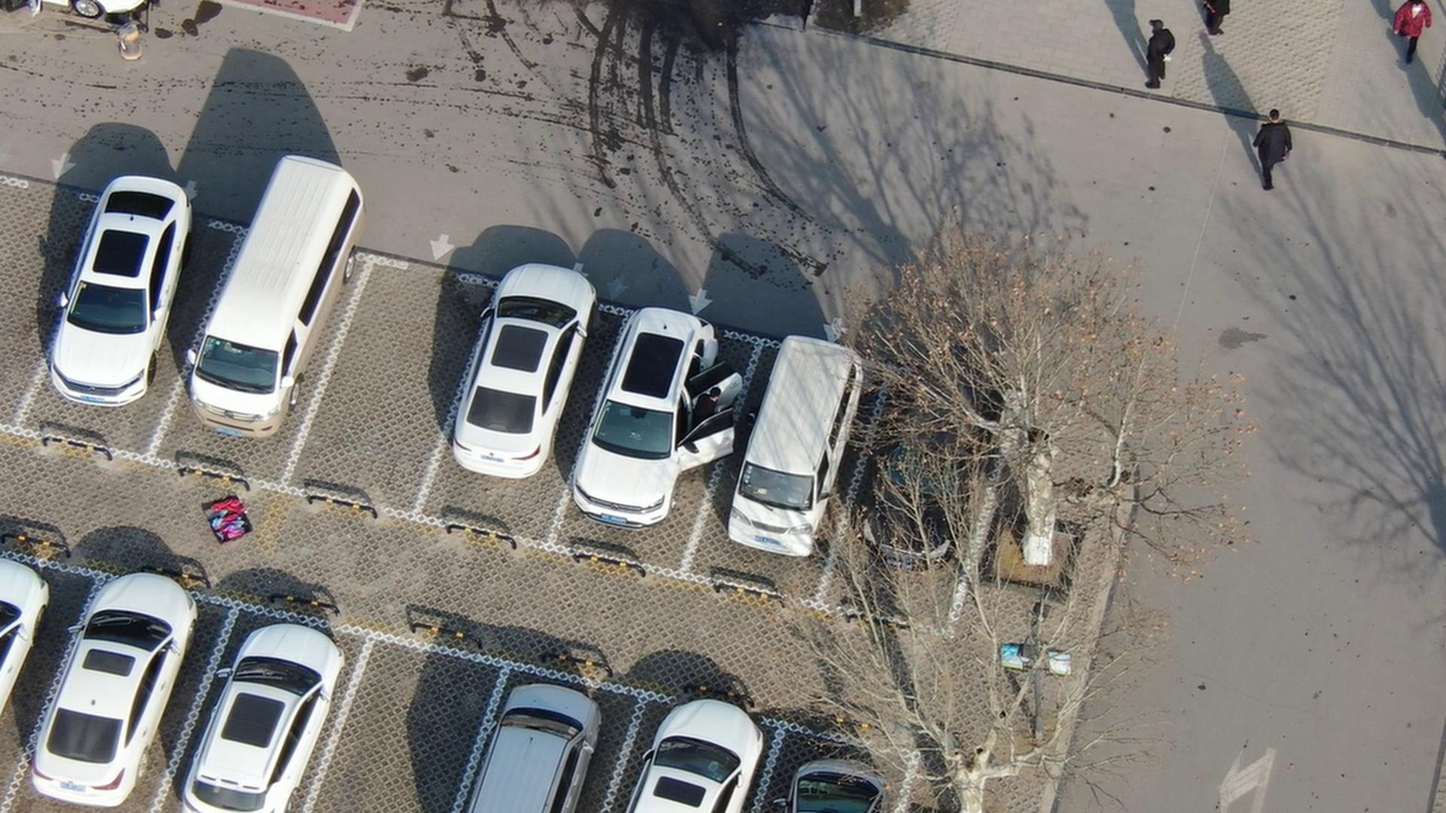human: (1237, 108, 1290, 196), (1382, 1, 1423, 79), (1139, 11, 1173, 93), (1190, 1, 1224, 50)
